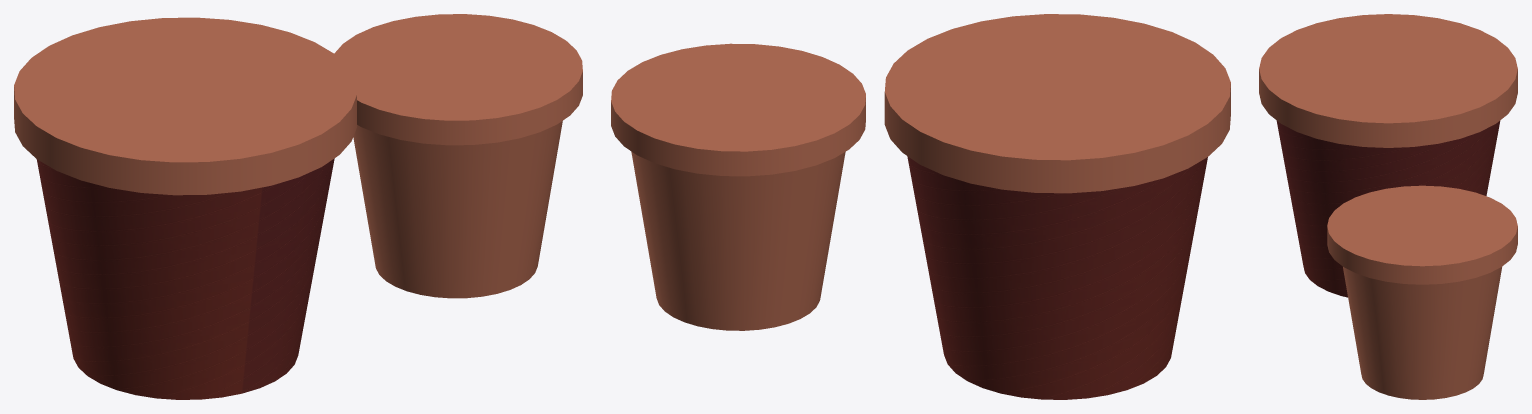
File: state-default.glb
3 renders of one model, left to right at view 1: azimuth 30°, elevation 25°; view 2: azimuth 150°, elevation 25°; view 3: azimuth 270°, elevation 25°, orthographic. The views are drawn at different scales.
Visible parts, largest first — view 1: assetPrim:843c6307ab323-19c7456cda8:pot-large-body, assetPrim:843c6307ab323-19c7456cda8:pot-large-rim, assetPrim:843c6307ab323-19c7456cda8:pot-med-body, assetPrim:843c6307ab323-19c7456cda8:pot-med-rim; view 2: assetPrim:843c6307ab323-19c7456cda8:pot-large-body, assetPrim:843c6307ab323-19c7456cda8:pot-large-rim, assetPrim:843c6307ab323-19c7456cda8:pot-med-body, assetPrim:843c6307ab323-19c7456cda8:pot-med-rim; view 3: assetPrim:843c6307ab323-19c7456cda8:pot-large-rim, assetPrim:843c6307ab323-19c7456cda8:pot-med-body, assetPrim:843c6307ab323-19c7456cda8:pot-med-rim, assetPrim:843c6307ab323-19c7456cda8:pot-large-body.
Boxes of the visible parts, bbox=[...] form: assetPrim:843c6307ab323-19c7456cda8:pot-large-body: bbox=[36, 158, 334, 399]; assetPrim:843c6307ab323-19c7456cda8:pot-large-rim: bbox=[14, 17, 356, 195]; assetPrim:843c6307ab323-19c7456cda8:pot-med-body: bbox=[353, 121, 562, 298]; assetPrim:843c6307ab323-19c7456cda8:pot-med-rim: bbox=[334, 14, 582, 145]; assetPrim:843c6307ab323-19c7456cda8:pot-large-body: bbox=[907, 156, 1207, 399]; assetPrim:843c6307ab323-19c7456cda8:pot-large-rim: bbox=[884, 14, 1230, 193]; assetPrim:843c6307ab323-19c7456cda8:pot-med-body: bbox=[631, 151, 845, 330]; assetPrim:843c6307ab323-19c7456cda8:pot-med-rim: bbox=[611, 43, 865, 176]; assetPrim:843c6307ab323-19c7456cda8:pot-large-rim: bbox=[1259, 14, 1517, 147]; assetPrim:843c6307ab323-19c7456cda8:pot-med-body: bbox=[1343, 267, 1501, 399]; assetPrim:843c6307ab323-19c7456cda8:pot-med-rim: bbox=[1327, 185, 1517, 284]; assetPrim:843c6307ab323-19c7456cda8:pot-large-body: bbox=[1276, 121, 1500, 297].
Bounding box in the file's own units: 1.41 × 0.64 × 0.76.
6 materials, 1 textured.
